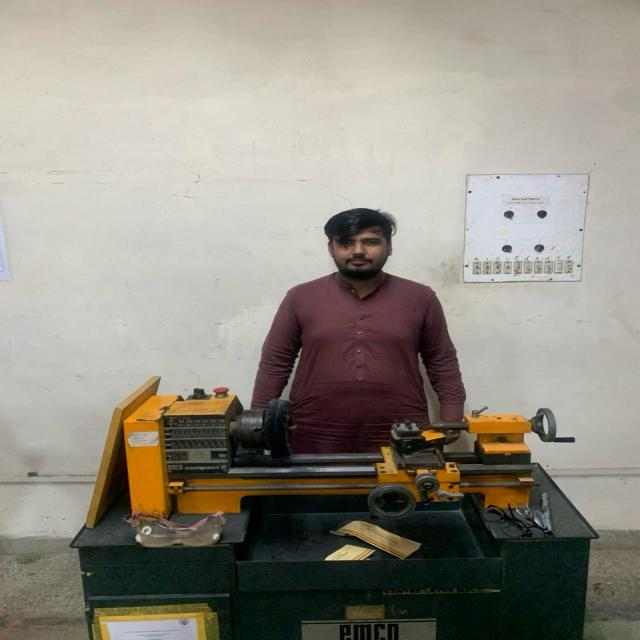dress: (248, 264, 469, 453)
